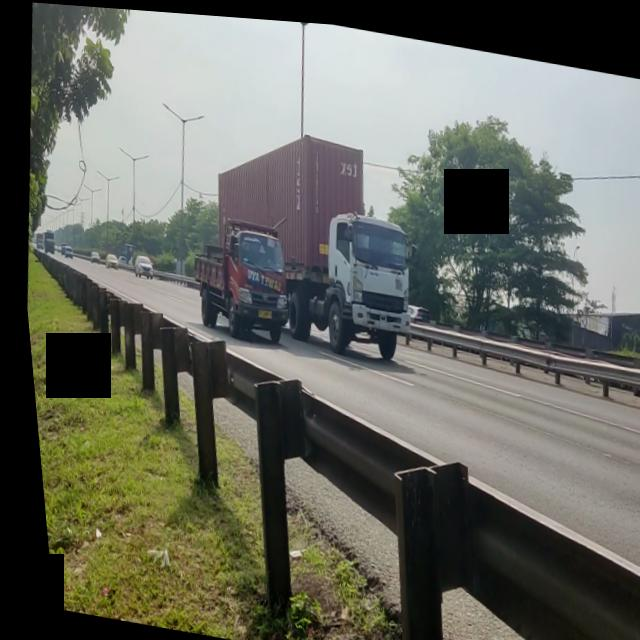Golongan II: (175, 200, 296, 348)
